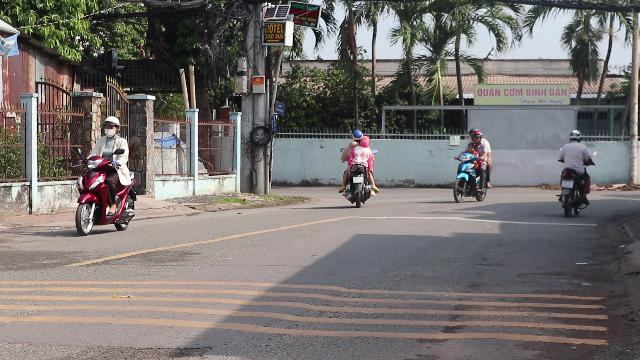helmet: (101, 116, 119, 136)
motorcyclist: (72, 114, 138, 236)
